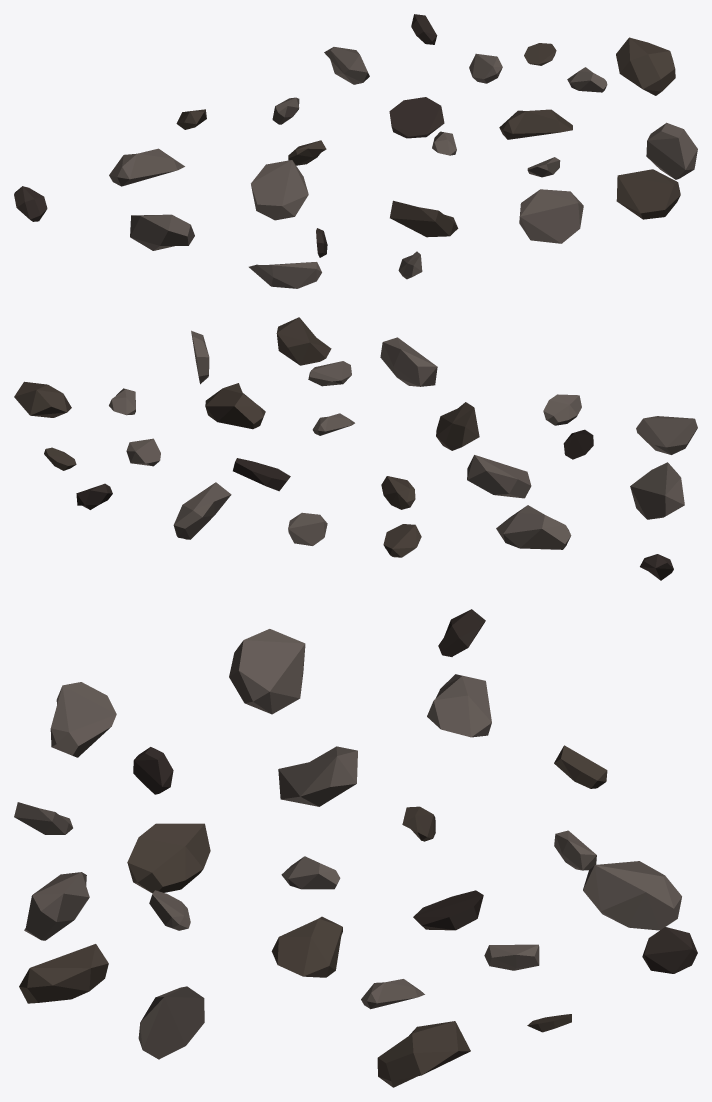
File: Pebbles_03.fbx
3 views of the same model, one above another, from view 1: azimuth 30°, elevation 25°; view 2: azimuth 150°, elevation 25°; view 3: azimuth 270°, elevation 25° (orthographic). The views are drawn at different scales.
Visible parts, largest first — view 1: Pebbles_03; view 2: Pebbles_03; view 3: Pebbles_03.
Part boxes in pixels (x1,y1,x2,y2): Pebbles_03: [14, 14, 697, 288]; Pebbles_03: [14, 317, 697, 580]; Pebbles_03: [14, 609, 697, 1087].
Size of the model in its own units: 171 by 14.94 by 110.
Materials: 1 (1 with a texture image).
